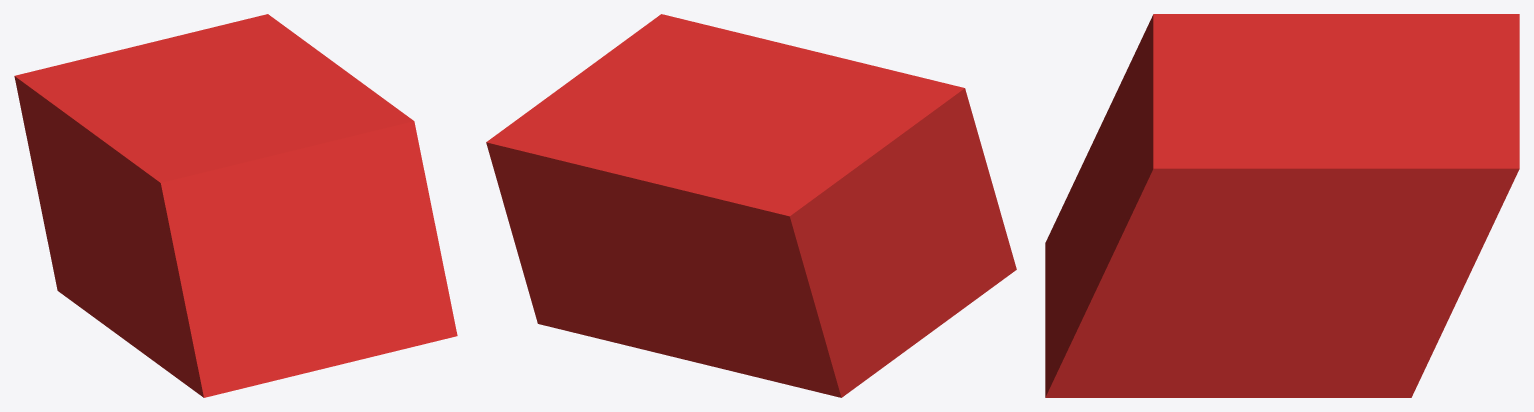
The model's file is entrada-salida.glb.
3 renders of one model, left to right at view 1: azimuth 30°, elevation 25°; view 2: azimuth 150°, elevation 25°; view 3: azimuth 270°, elevation 25°, orthographic. The views are drawn at different scales.
Visible parts, largest first — view 1: Cube; view 2: Cube; view 3: Cube.
Boxes of the visible parts, box(x1,y1,x2,y2) form: Cube: box(14, 14, 457, 397); Cube: box(486, 14, 1016, 397); Cube: box(1045, 14, 1519, 397).
Bounding box in the file's own units: 0.439 × 0.3032 × 0.5687.
